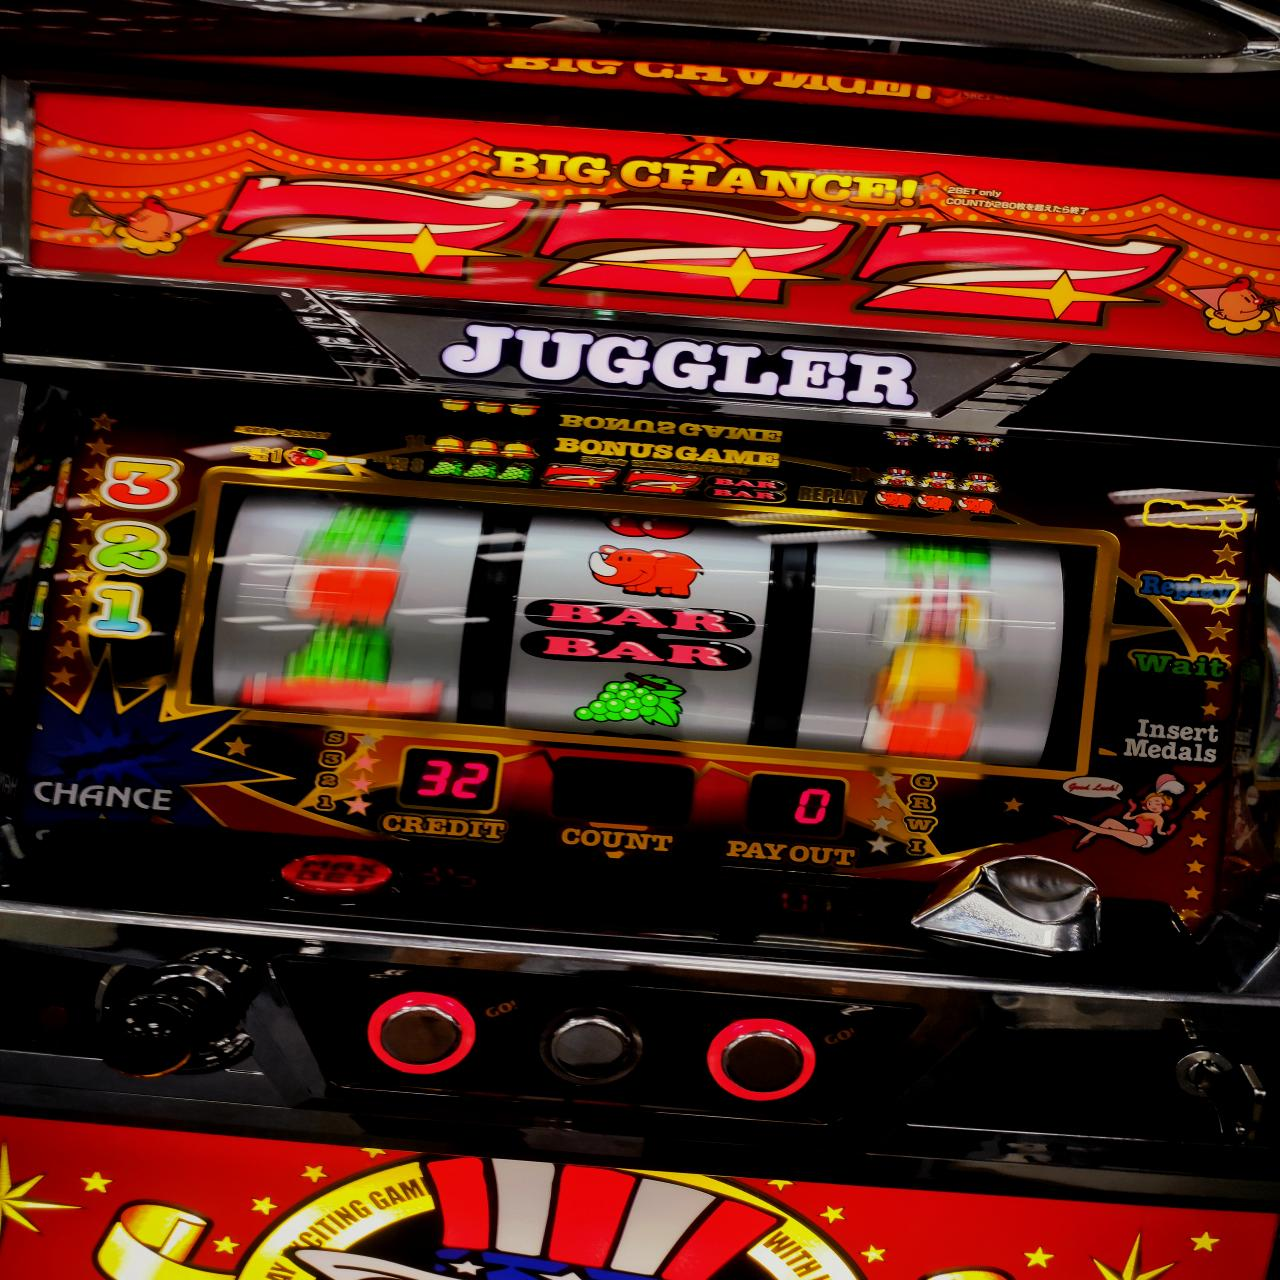8: (580, 544, 707, 595)
bar: (524, 599, 750, 668)
grape: (572, 672, 683, 730)
rhino: (184, 486, 1087, 782)
